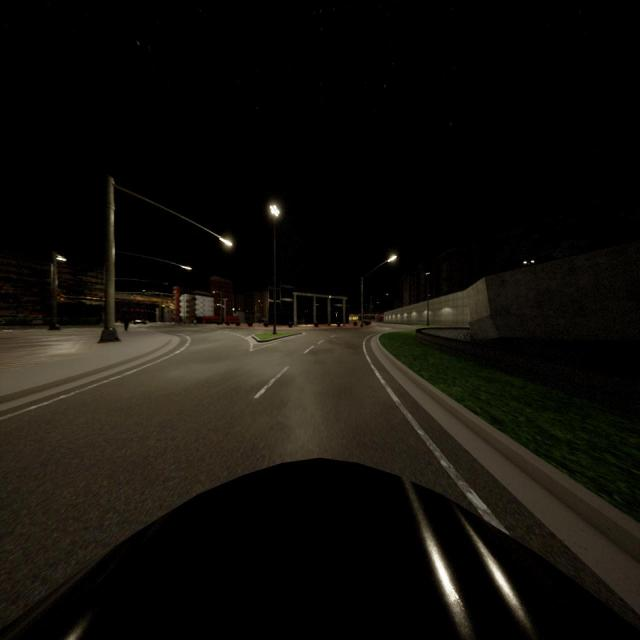Pedestrian: (124, 309, 129, 330)
Vehicle: (0, 462, 640, 640), (202, 316, 220, 324), (225, 317, 240, 325), (135, 320, 146, 324)
traffic_light: (130, 309, 134, 312), (141, 310, 144, 312)
